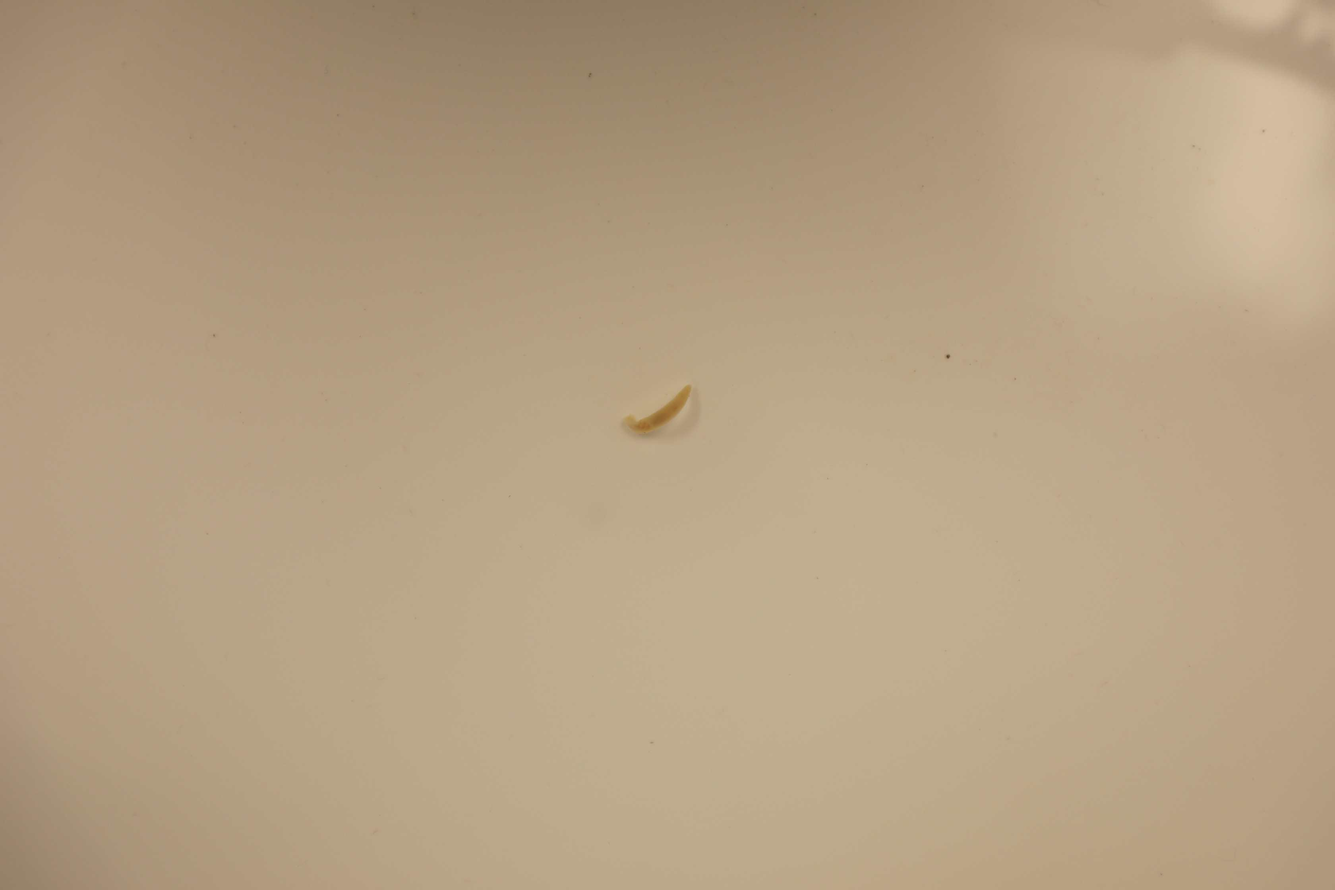Cadisfly: (621, 382, 695, 434)
